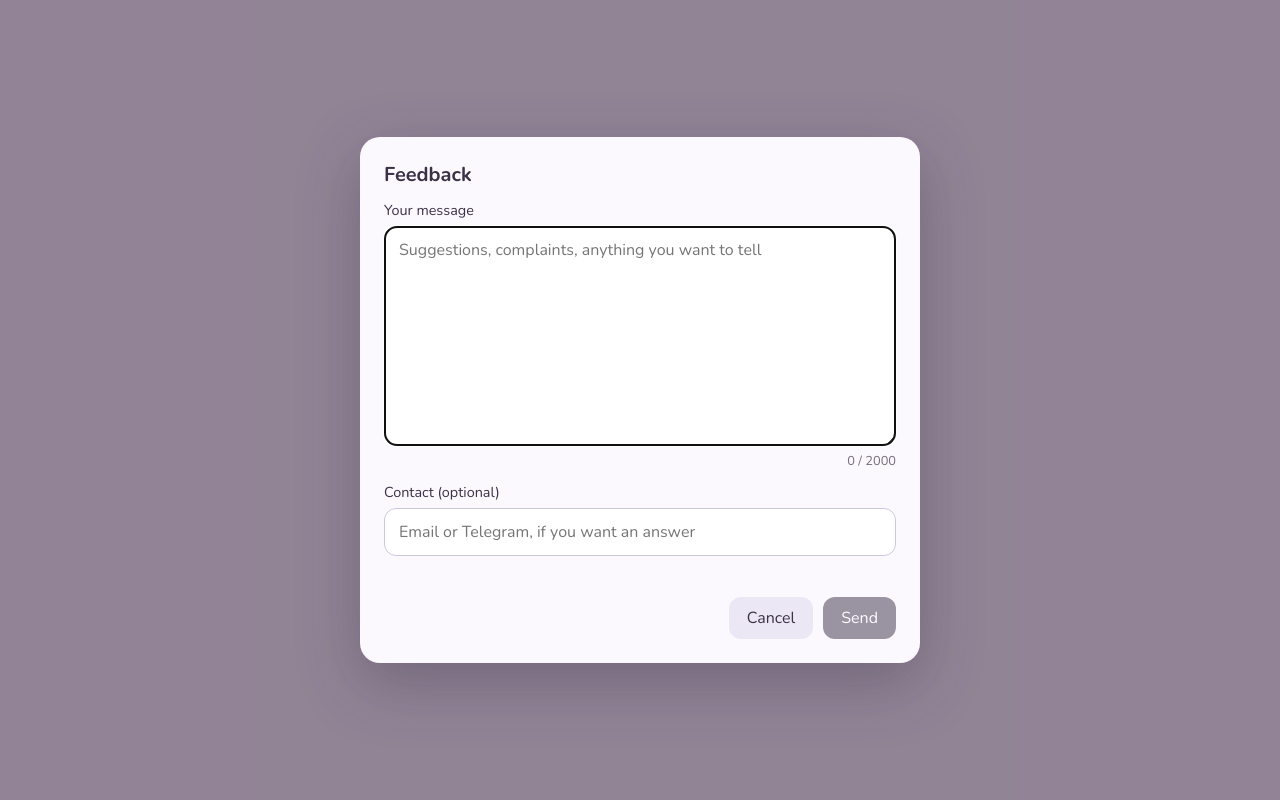
Scenario: FeedbackDialog › counts the characters typed
This screenshot has width=1280, height=800.
Type "abc" into the text box labelled "Your message" at (640, 336), box [384,226,896,446]
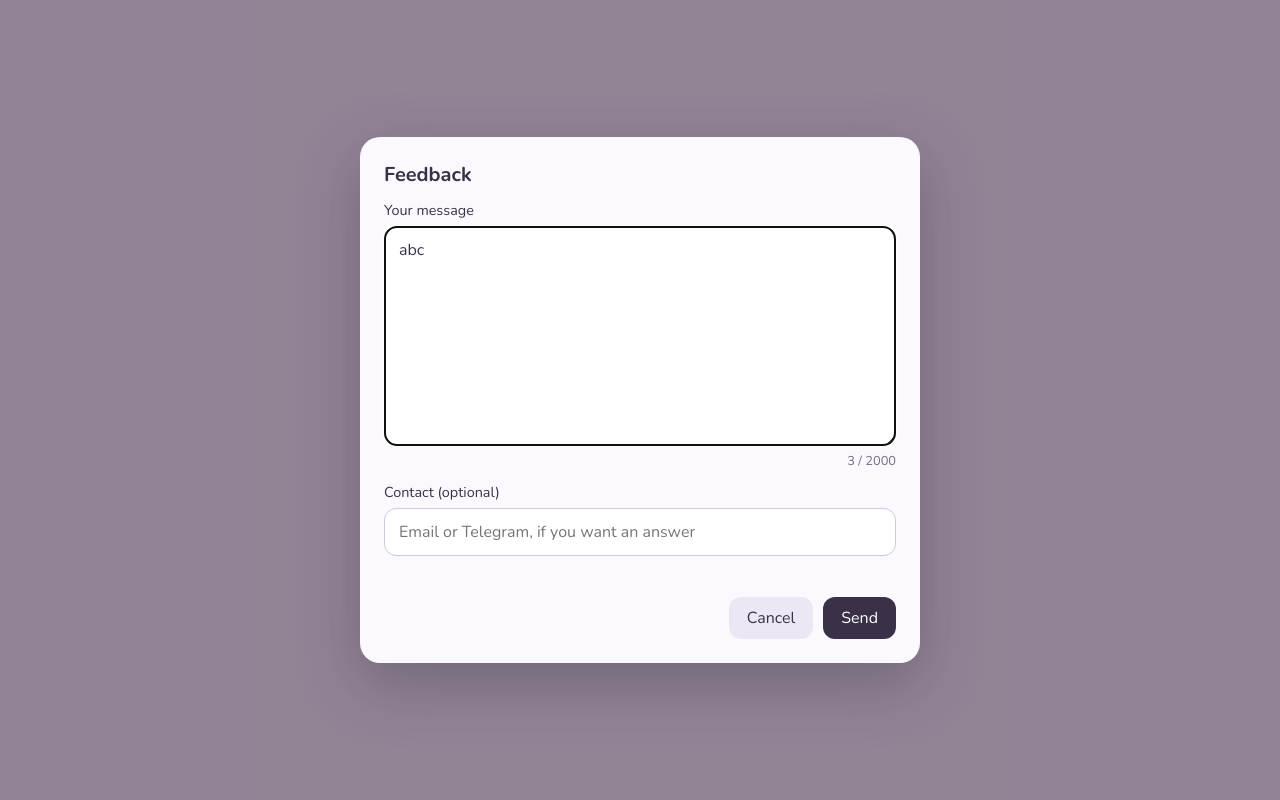
Result: the text "3 / 2000" is shown at [847,452,896,470]
